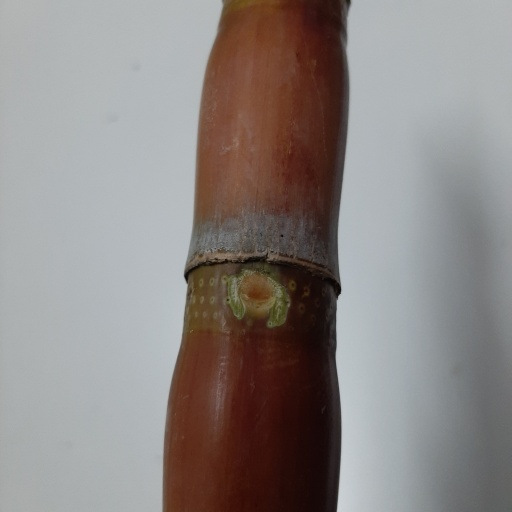Damage_Bud: (228, 266, 291, 321)
